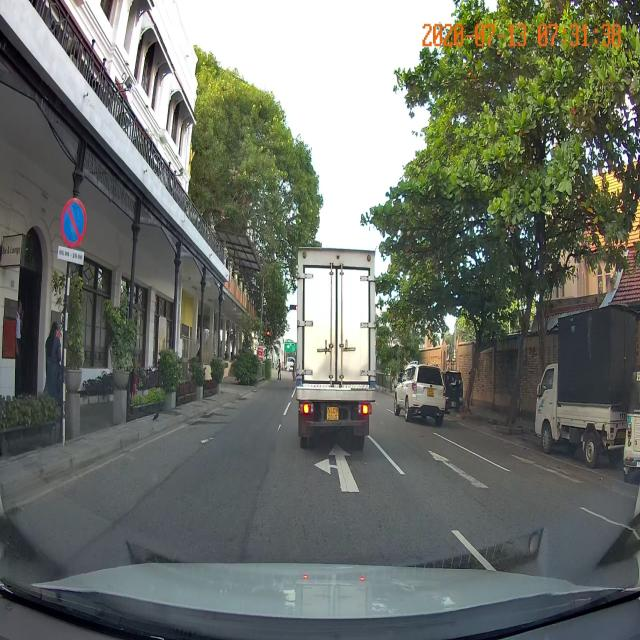forward_lft: (248, 440, 450, 519)
